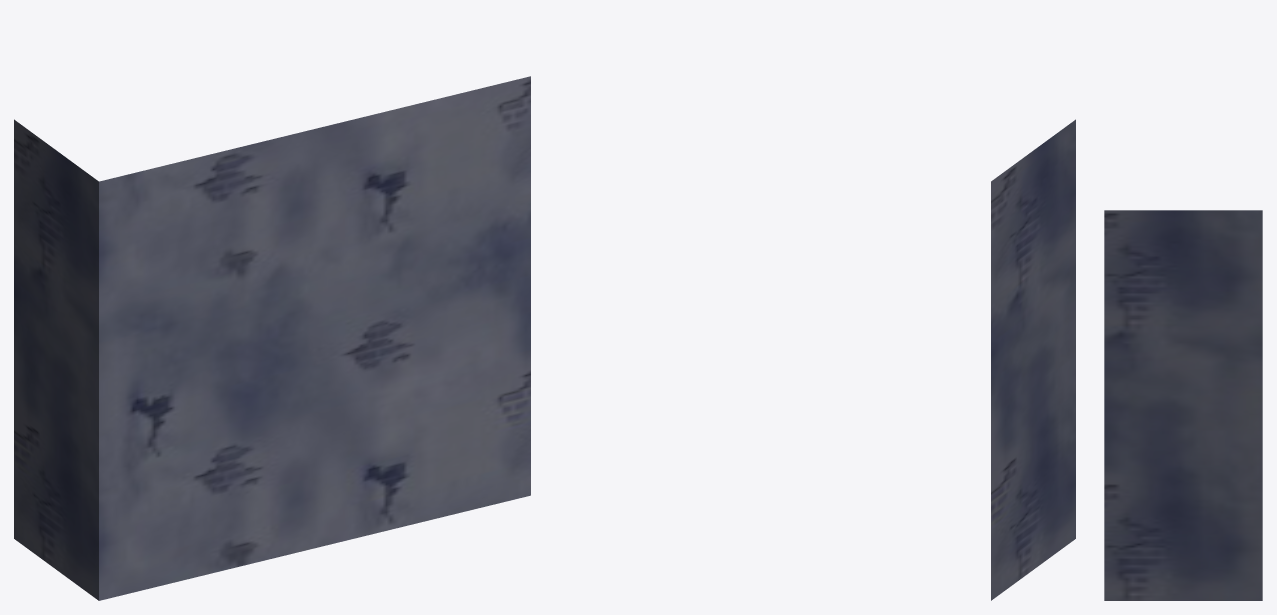
File: toonblitz_wall.glb
3 views of the same model, side by side, from view 1: azimuth 30°, elevation 25°; view 2: azimuth 150°, elevation 25°; view 3: azimuth 270°, elevation 25° (orthographic). The views are drawn at different scales.
Parts seen in each view (by area): view 1: wallmesh; view 2: wallmesh; view 3: wallmesh.
Part boxes in pixels (<box>): wallmesh: <box>14,76,530,600</box>; wallmesh: <box>991,119,1075,600</box>; wallmesh: <box>1104,210,1262,600</box>.
Size of the model in its own units: 70.97 by 65.85 by 24.19.
1 material, 1 textured.
